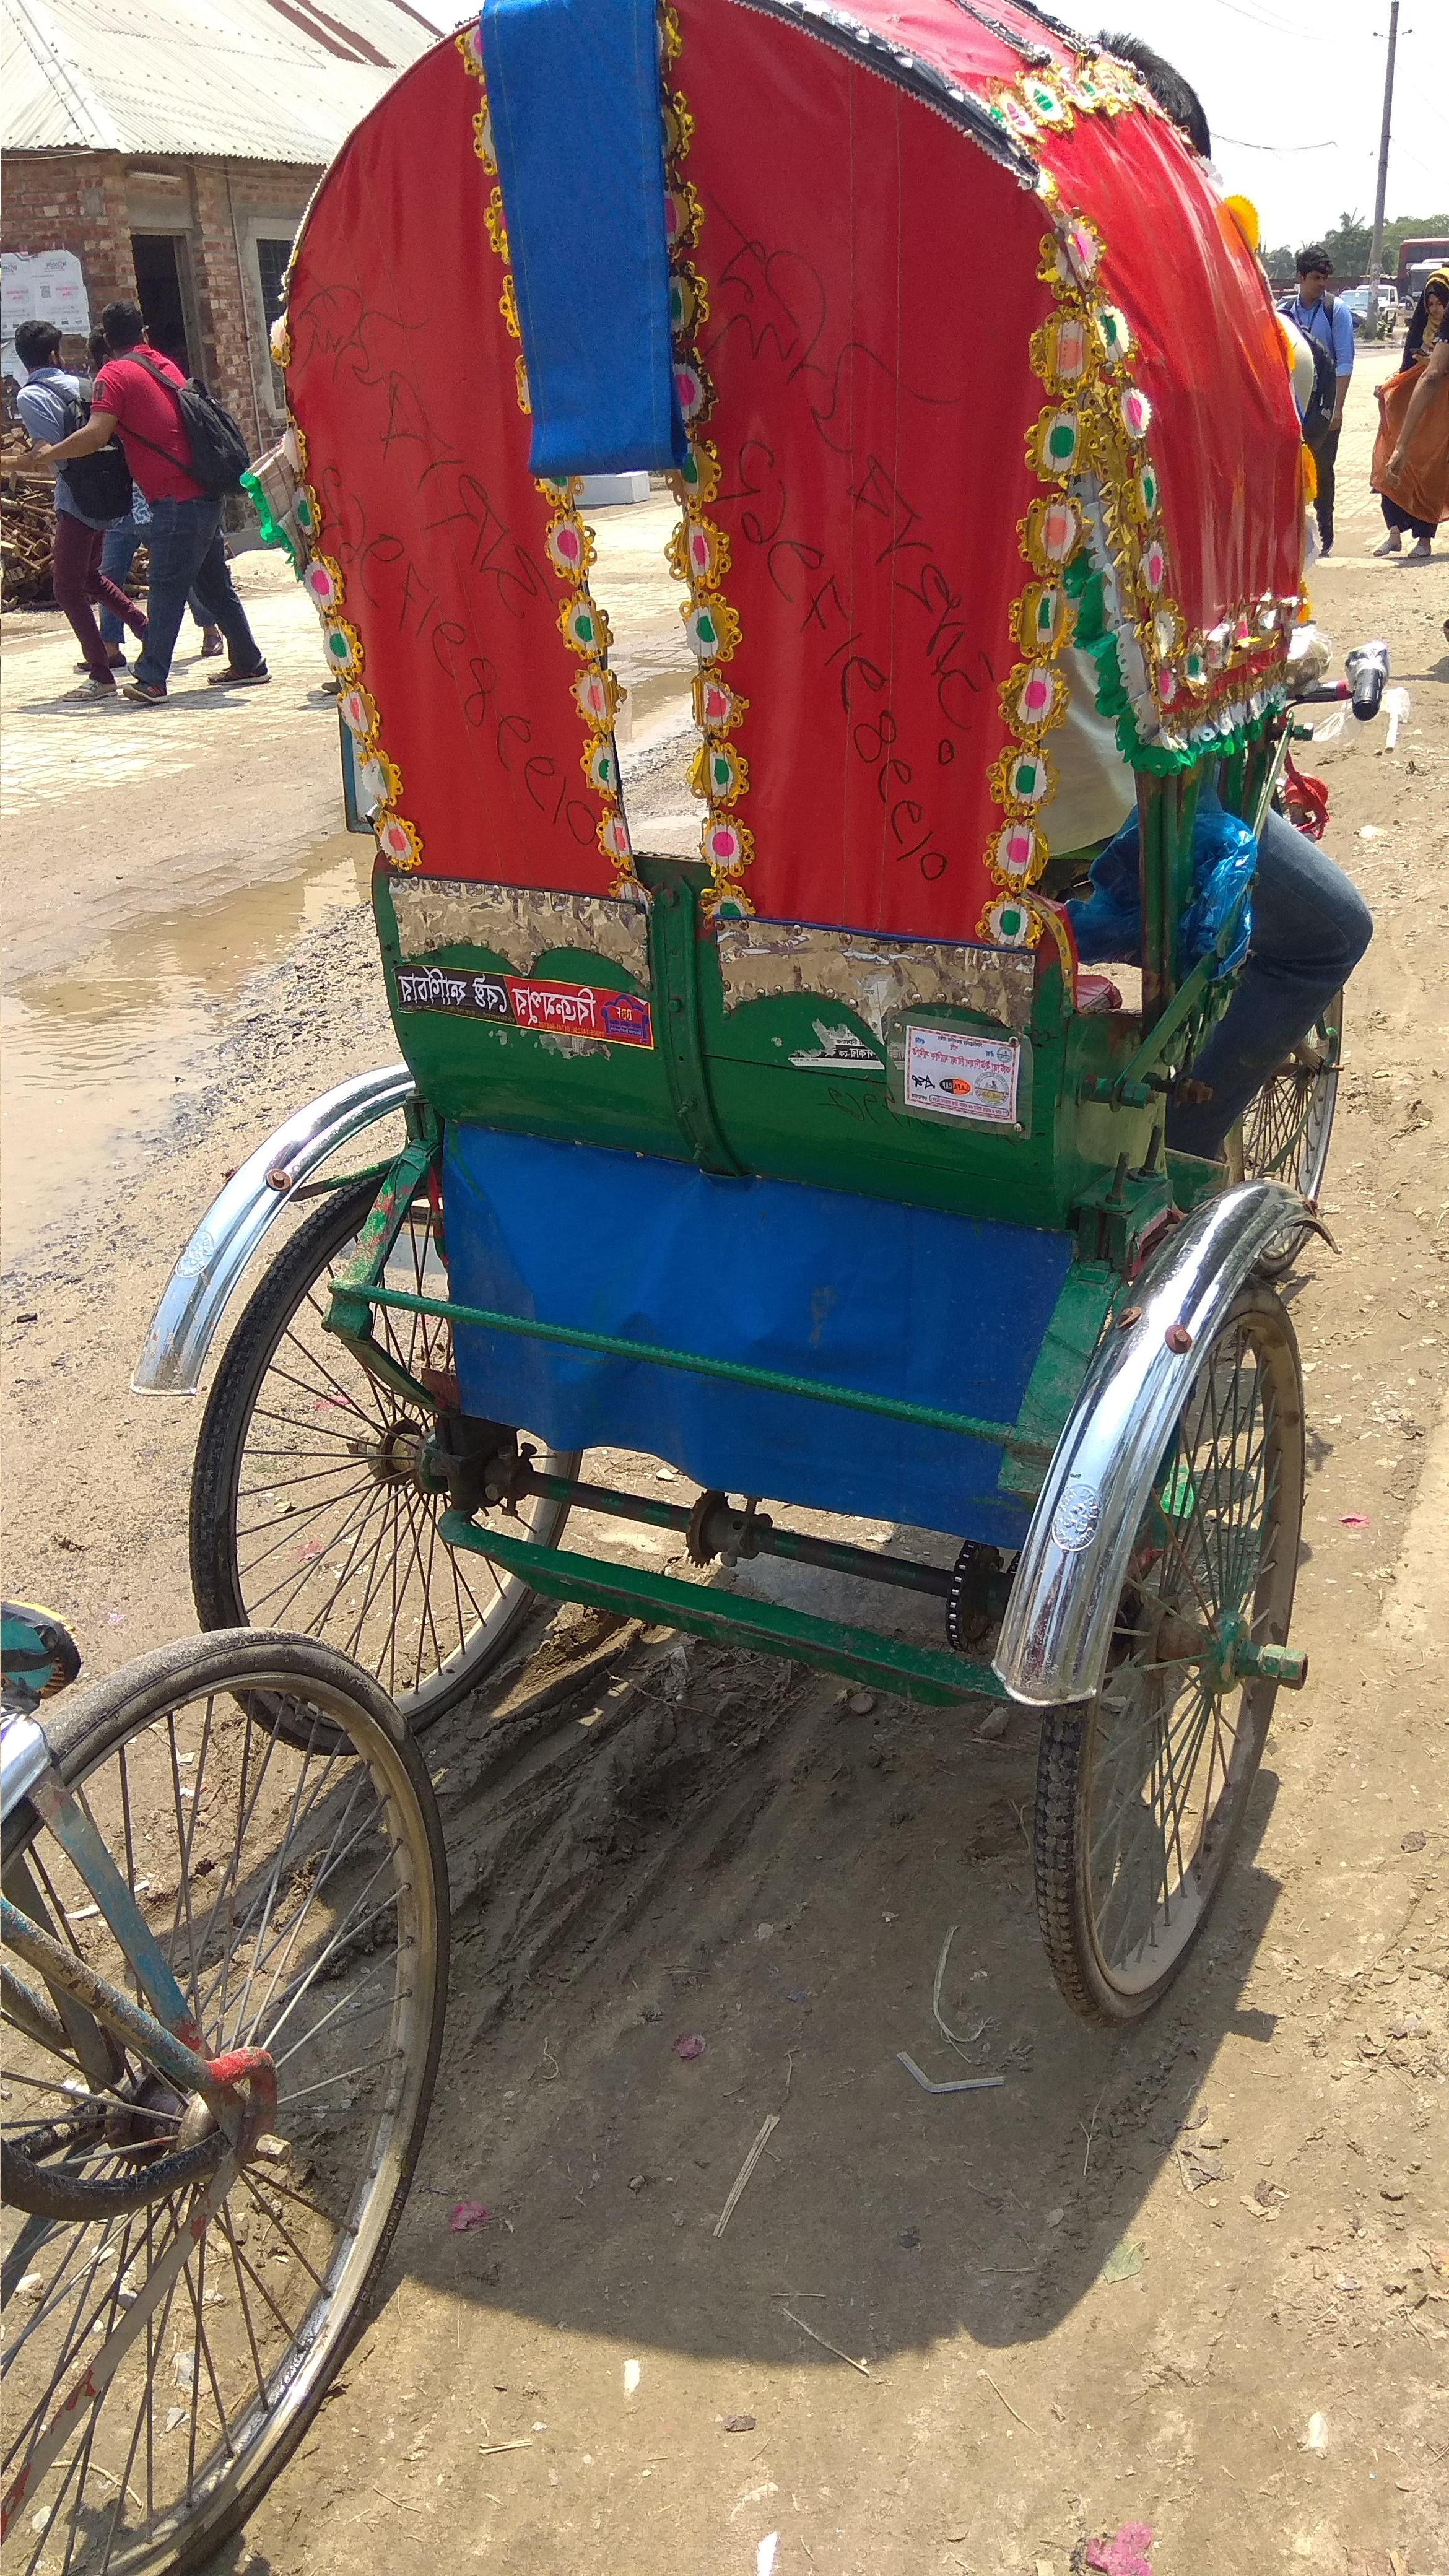Rickshaw: (168, 14, 1334, 1994)
